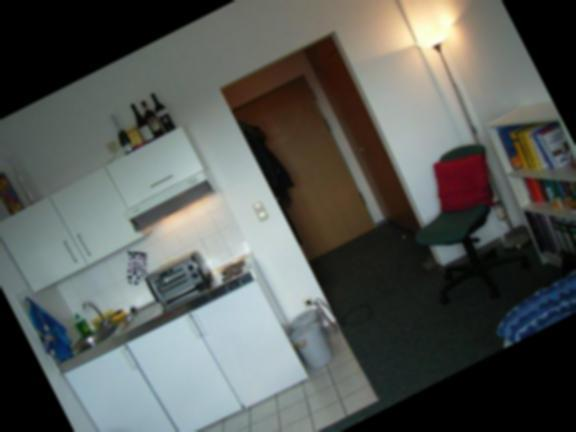Bote de Basura: (281, 302, 344, 378), (83, 428, 140, 432)
Lavaplatos: (57, 287, 133, 363)
Otro Obstaculo: (233, 77, 376, 260)
Puerta: (316, 54, 427, 239)
